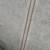zebra: (1, 12, 50, 41)
